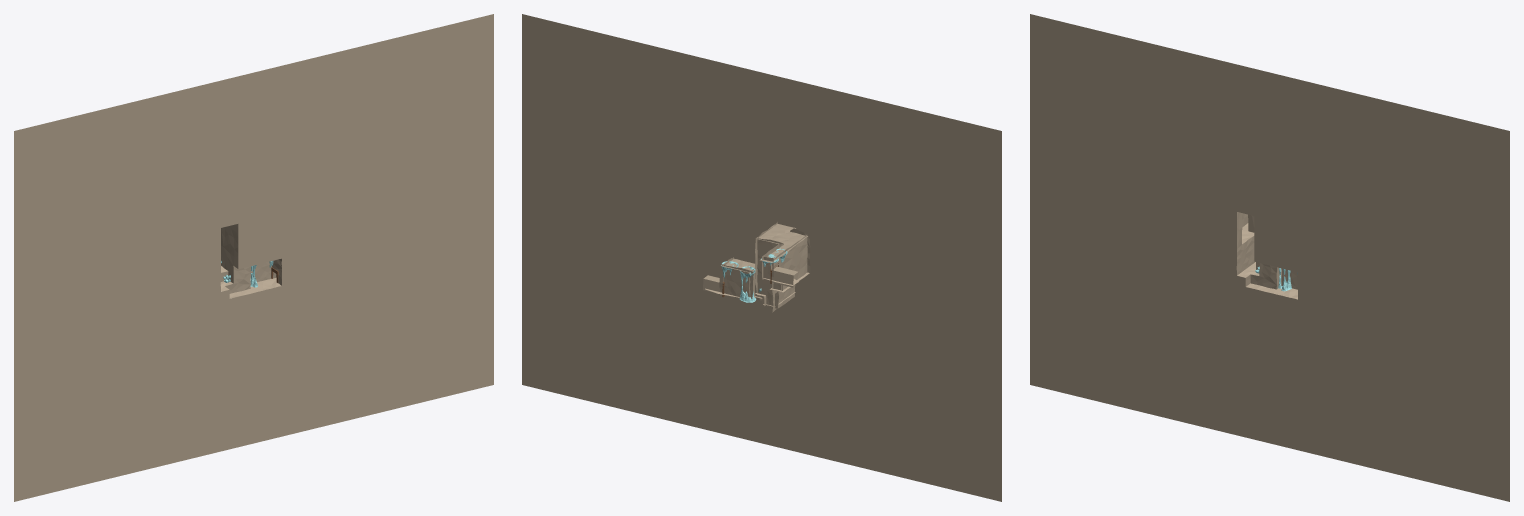
The model's file is cave-E.glb.
3 renders of one model, left to right at view 1: azimuth 30°, elevation 25°; view 2: azimuth 150°, elevation 25°; view 3: azimuth 330°, elevation 25°, orthographic.
Visible parts, largest first — view 1: cabe-E; view 2: cabe-E; view 3: cabe-E.
Part boxes in pixels (bbox=[...]): cabe-E: bbox=[14, 14, 493, 501]; cabe-E: bbox=[522, 14, 1001, 501]; cabe-E: bbox=[1030, 14, 1509, 501].
Bounding box in the file's own units: 54.99 × 40.64 × 8.43.
1 material, 1 textured.
